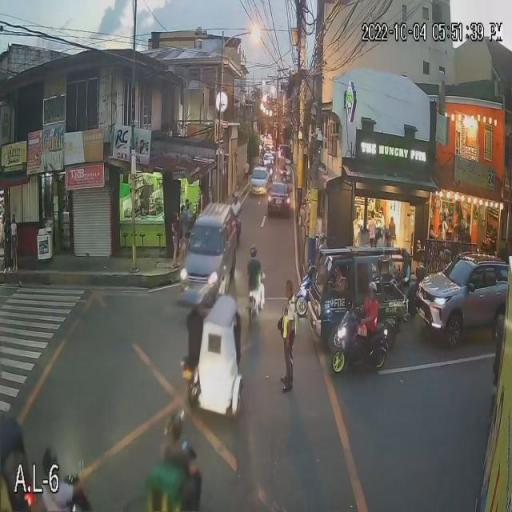helmet: (165, 408, 190, 437), (39, 451, 59, 475), (438, 244, 452, 264), (398, 252, 414, 268), (368, 282, 378, 295), (250, 246, 258, 257)
motorcycle: (328, 312, 391, 376), (154, 441, 200, 511), (20, 485, 94, 512), (247, 276, 267, 326), (300, 267, 316, 318), (381, 270, 413, 291)
rider: (149, 408, 204, 512), (38, 449, 84, 512), (354, 282, 381, 352), (246, 246, 266, 308), (396, 262, 412, 291)
